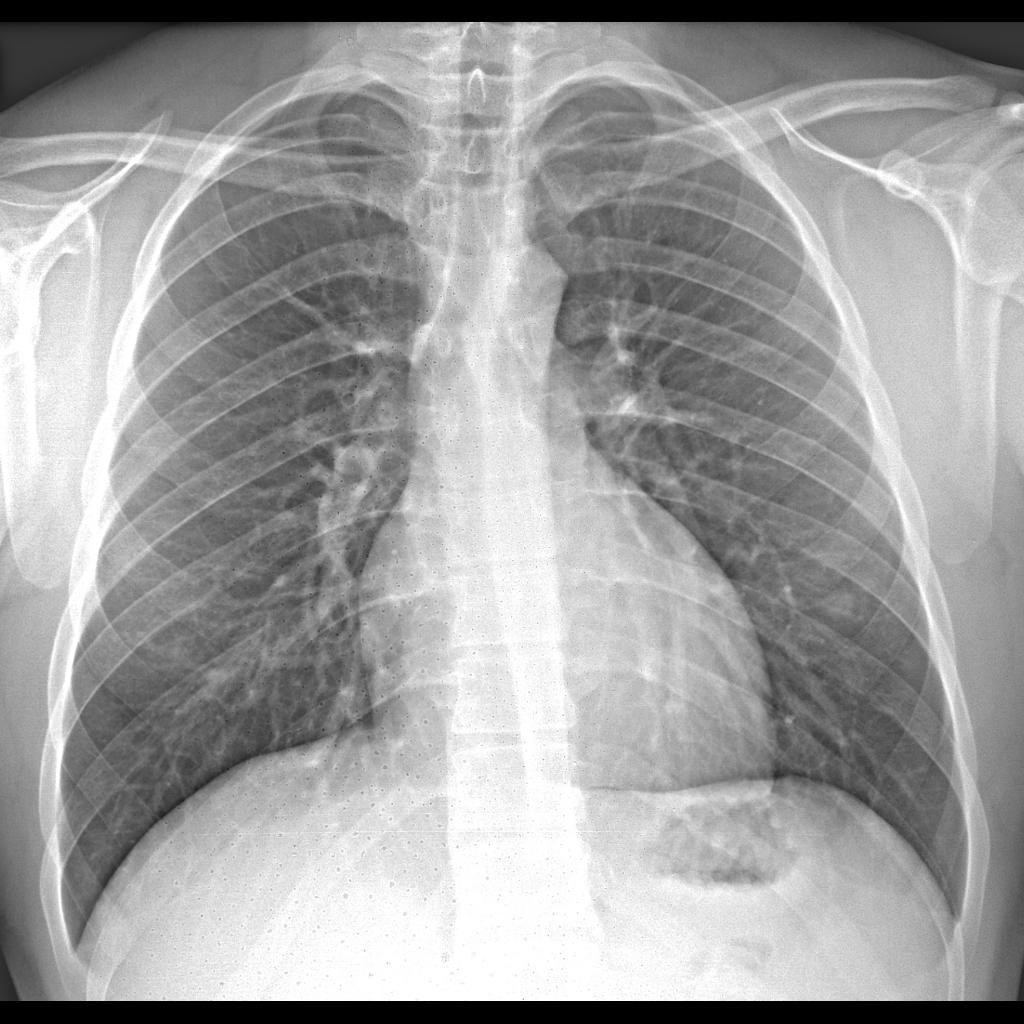Nodule: (815, 579, 874, 631)
